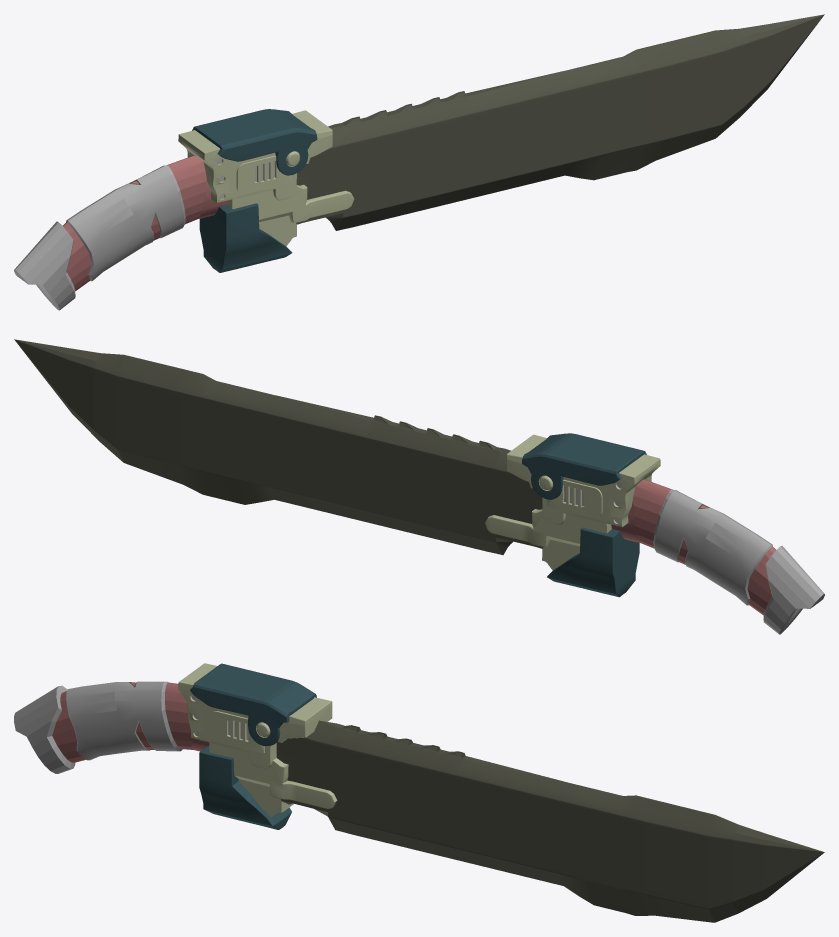
Rendered from zombie_midterm_final.fbx.
3 renders of one model, top to bottom at view 1: azimuth 30°, elevation 25°; view 2: azimuth 150°, elevation 25°; view 3: azimuth 330°, elevation 25°, orthographic.
Visible parts, largest first — view 1: pCylinder5; view 2: pCylinder5; view 3: pCylinder5.
Part boxes in pixels (left/top/right/bottom): pCylinder5: left=14, top=14, right=824, bottom=310; pCylinder5: left=14, top=339, right=824, bottom=634; pCylinder5: left=14, top=663, right=824, bottom=922.
Bounding box in the file's own units: 9.87 × 1.61 × 0.6802.
